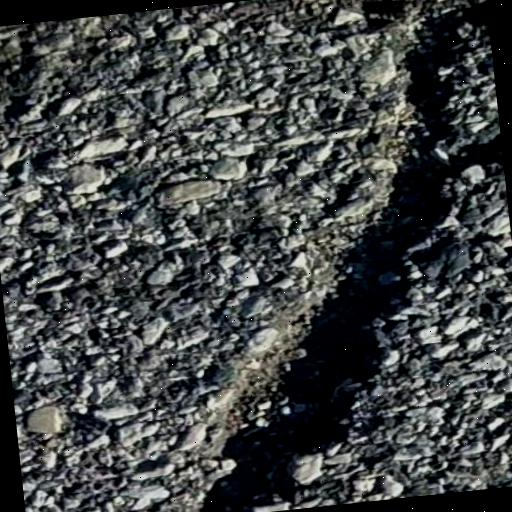spalling: (141, 0, 489, 502)
